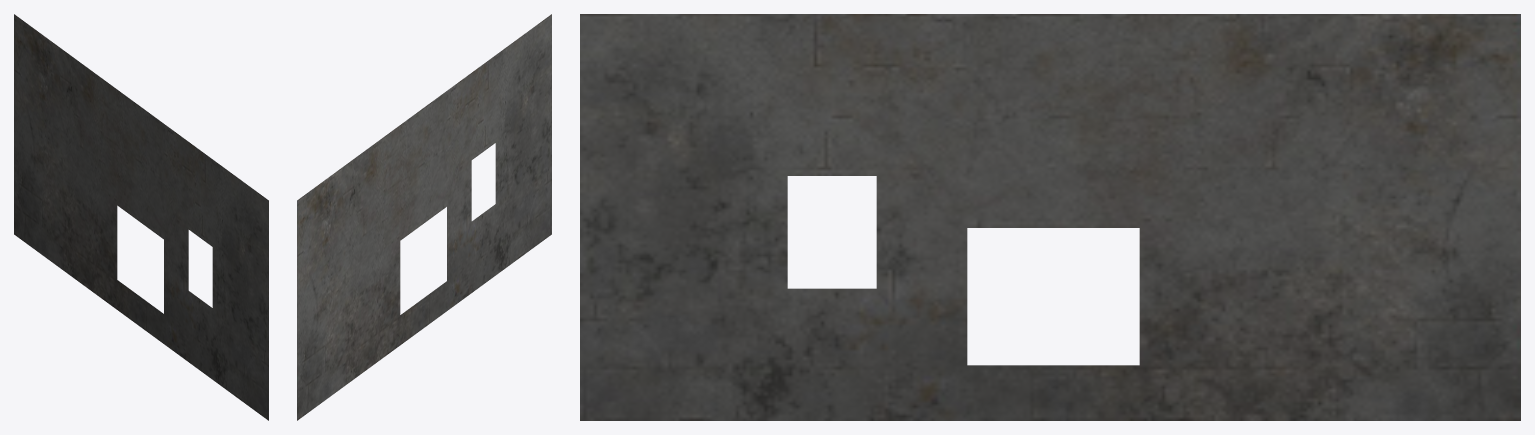
The model's file is Wall_03.FBX.
3 views of the same model, side by side, from view 1: azimuth 30°, elevation 25°; view 2: azimuth 150°, elevation 25°; view 3: azimuth 270°, elevation 25° (orthographic). The views are drawn at different scales.
Visible parts, largest first — view 1: Wall_03; view 2: Wall_03; view 3: Wall_03.
Part boxes in pixels (x1,y1,x2,y2): Wall_03: [14, 14, 268, 420]; Wall_03: [297, 14, 551, 420]; Wall_03: [580, 14, 1520, 420].
Bounding box in the file's own units: 0.000575 × 511 × 1071.
